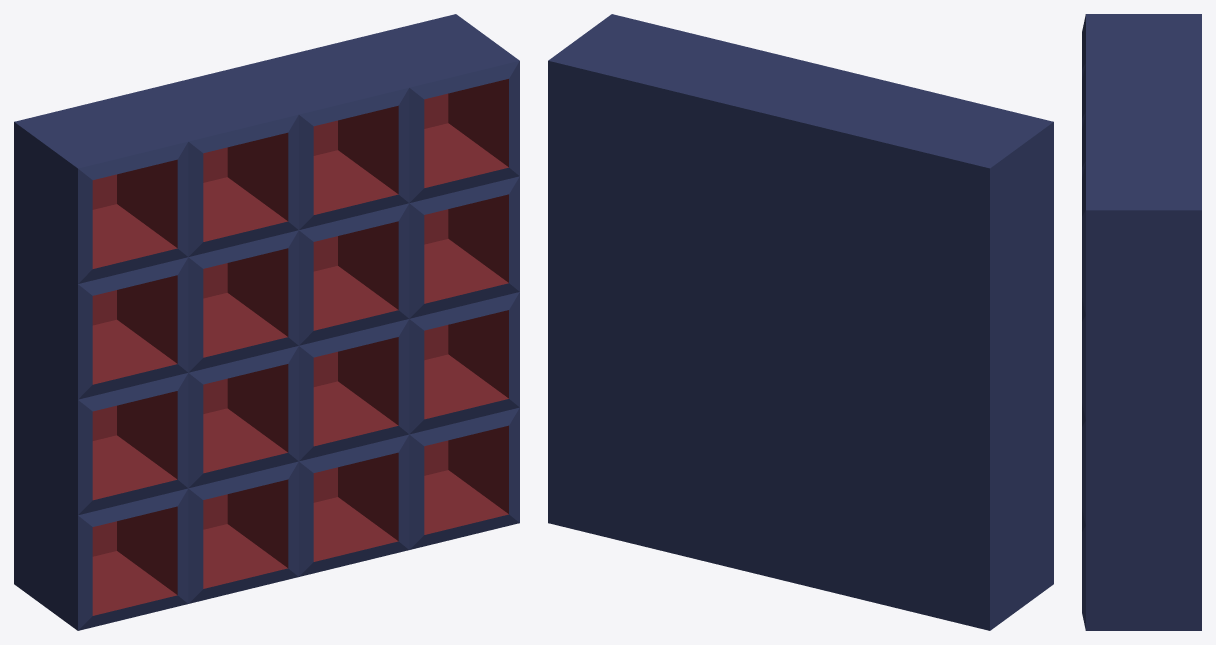
The model's file is Regal4x4.fbx.
3 renders of one model, left to right at view 1: azimuth 30°, elevation 25°; view 2: azimuth 150°, elevation 25°; view 3: azimuth 270°, elevation 25°, orthographic. The views are drawn at different scales.
Parts seen in each view (by area): view 1: Regal4x4; view 2: Regal4x4; view 3: Regal4x4.
Boxes of the visible parts, x1,y1,x2,y2 form: Regal4x4: (14,14,519,630); Regal4x4: (548,14,1053,630); Regal4x4: (1082,14,1201,630).
Size of the model in its own units: 800 by 800 by 207.
